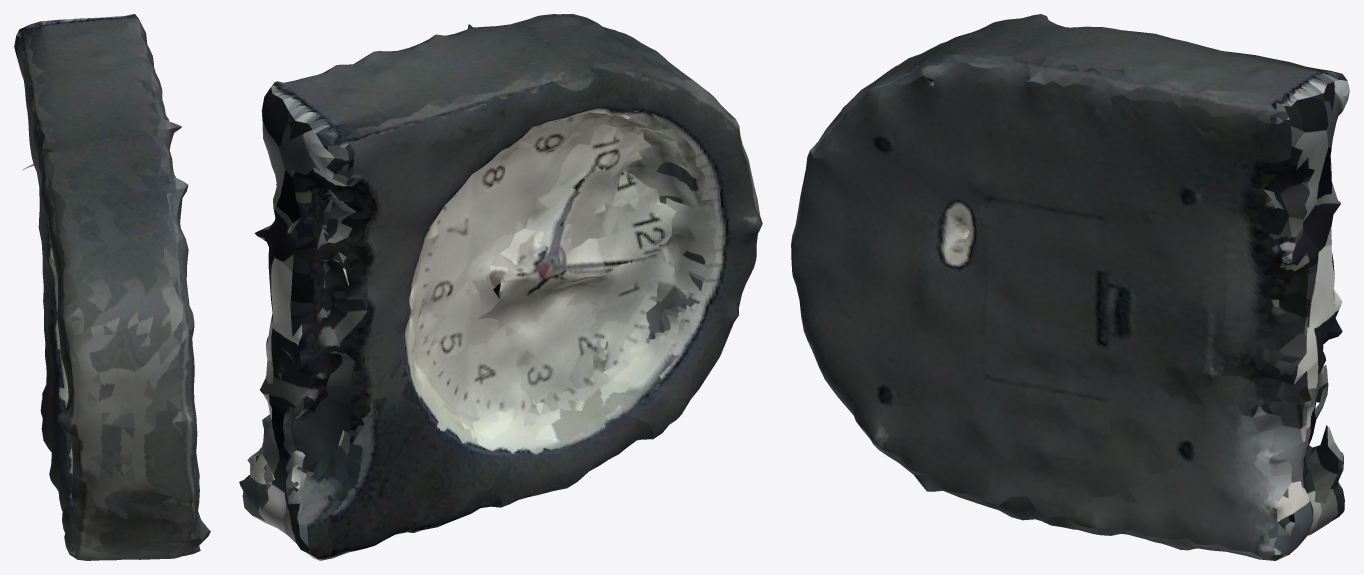
The model's file is object-bad-example-1.glb.
The picture shows the model from 3 angles, left to right: view 1: azimuth 30°, elevation 25°; view 2: azimuth 150°, elevation 25°; view 3: azimuth 270°, elevation 25°; orthographic projection. The views are drawn at different scales.
Parts seen in each view (by area): view 1: textured_mesh; view 2: textured_mesh; view 3: textured_mesh.
Boxes of the visible parts, bbox=[...] form: textured_mesh: bbox=[14, 14, 210, 560]; textured_mesh: bbox=[239, 14, 762, 560]; textured_mesh: bbox=[791, 14, 1349, 560].
Size of the model in its own units: 0.1122 by 0.1514 by 0.1672.
Materials: 1 (1 with a texture image).
